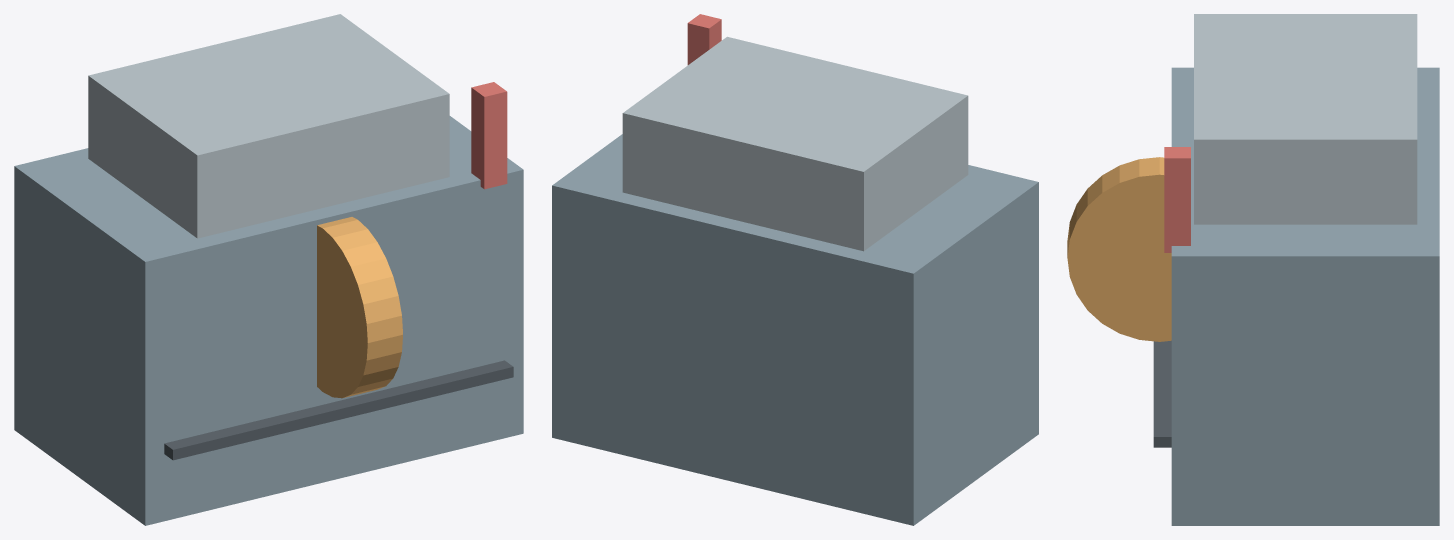
File: machine_lod1.glb
The picture shows the model from 3 angles, left to right: view 1: azimuth 30°, elevation 25°; view 2: azimuth 150°, elevation 25°; view 3: azimuth 270°, elevation 25°; orthographic projection. The views are drawn at different scales.
Visible parts, largest first — view 1: part_0, part_1, part_2, part_4, part_3; view 2: part_0, part_1, part_3; view 3: part_0, part_1, part_2, part_3, part_4.
Boxes of the visible parts, bbox=[...] form: part_0: bbox=[14, 116, 523, 525]; part_1: bbox=[88, 14, 449, 238]; part_2: bbox=[317, 217, 402, 398]; part_4: bbox=[164, 360, 513, 460]; part_3: bbox=[471, 82, 507, 189]; part_0: bbox=[552, 134, 1038, 525]; part_1: bbox=[622, 36, 968, 251]; part_3: bbox=[687, 14, 721, 64]; part_0: bbox=[1171, 67, 1439, 525]; part_1: bbox=[1194, 14, 1417, 224]; part_2: bbox=[1067, 157, 1171, 341]; part_3: bbox=[1164, 147, 1190, 252]; part_4: bbox=[1153, 340, 1171, 447].
Bounding box in the file's own units: 3 × 2.65 × 2.5.
